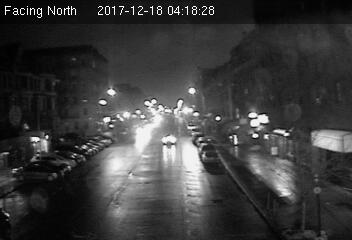car: (201, 150, 220, 164), (161, 134, 178, 145)
